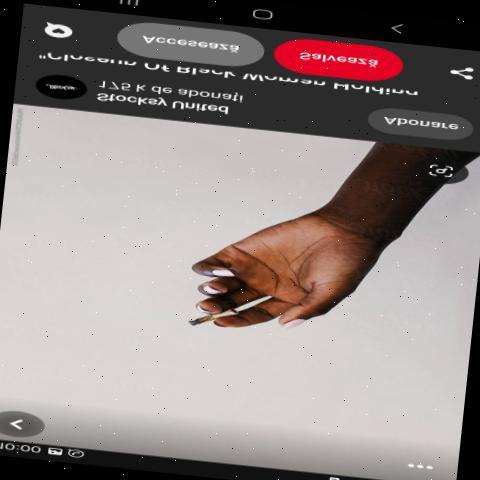Hands: (162, 162, 396, 387)
